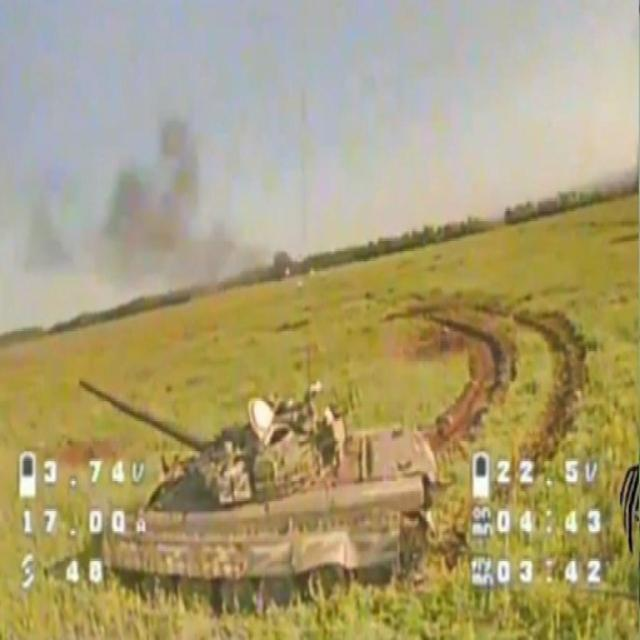TANK: (74, 369, 444, 598)
